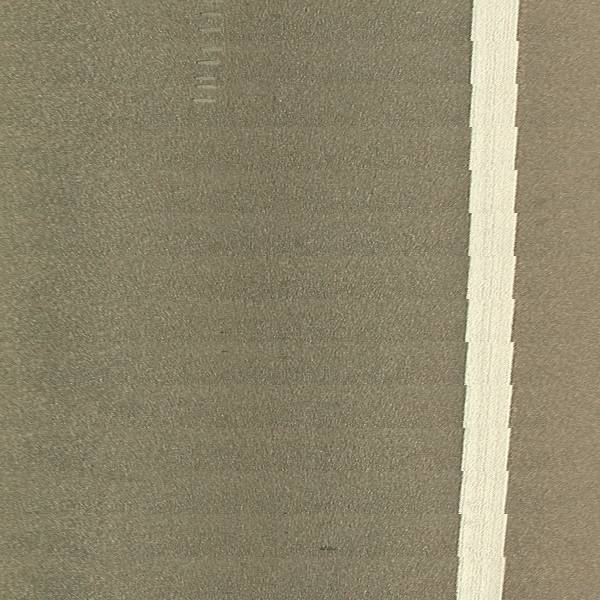road_damage: (192, 2, 226, 110)
